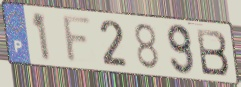1: (30, 11, 52, 63)
2: (98, 19, 130, 70)
8: (132, 22, 160, 72)
9: (165, 22, 197, 77)
B: (194, 27, 231, 77)
F: (61, 14, 94, 66)
